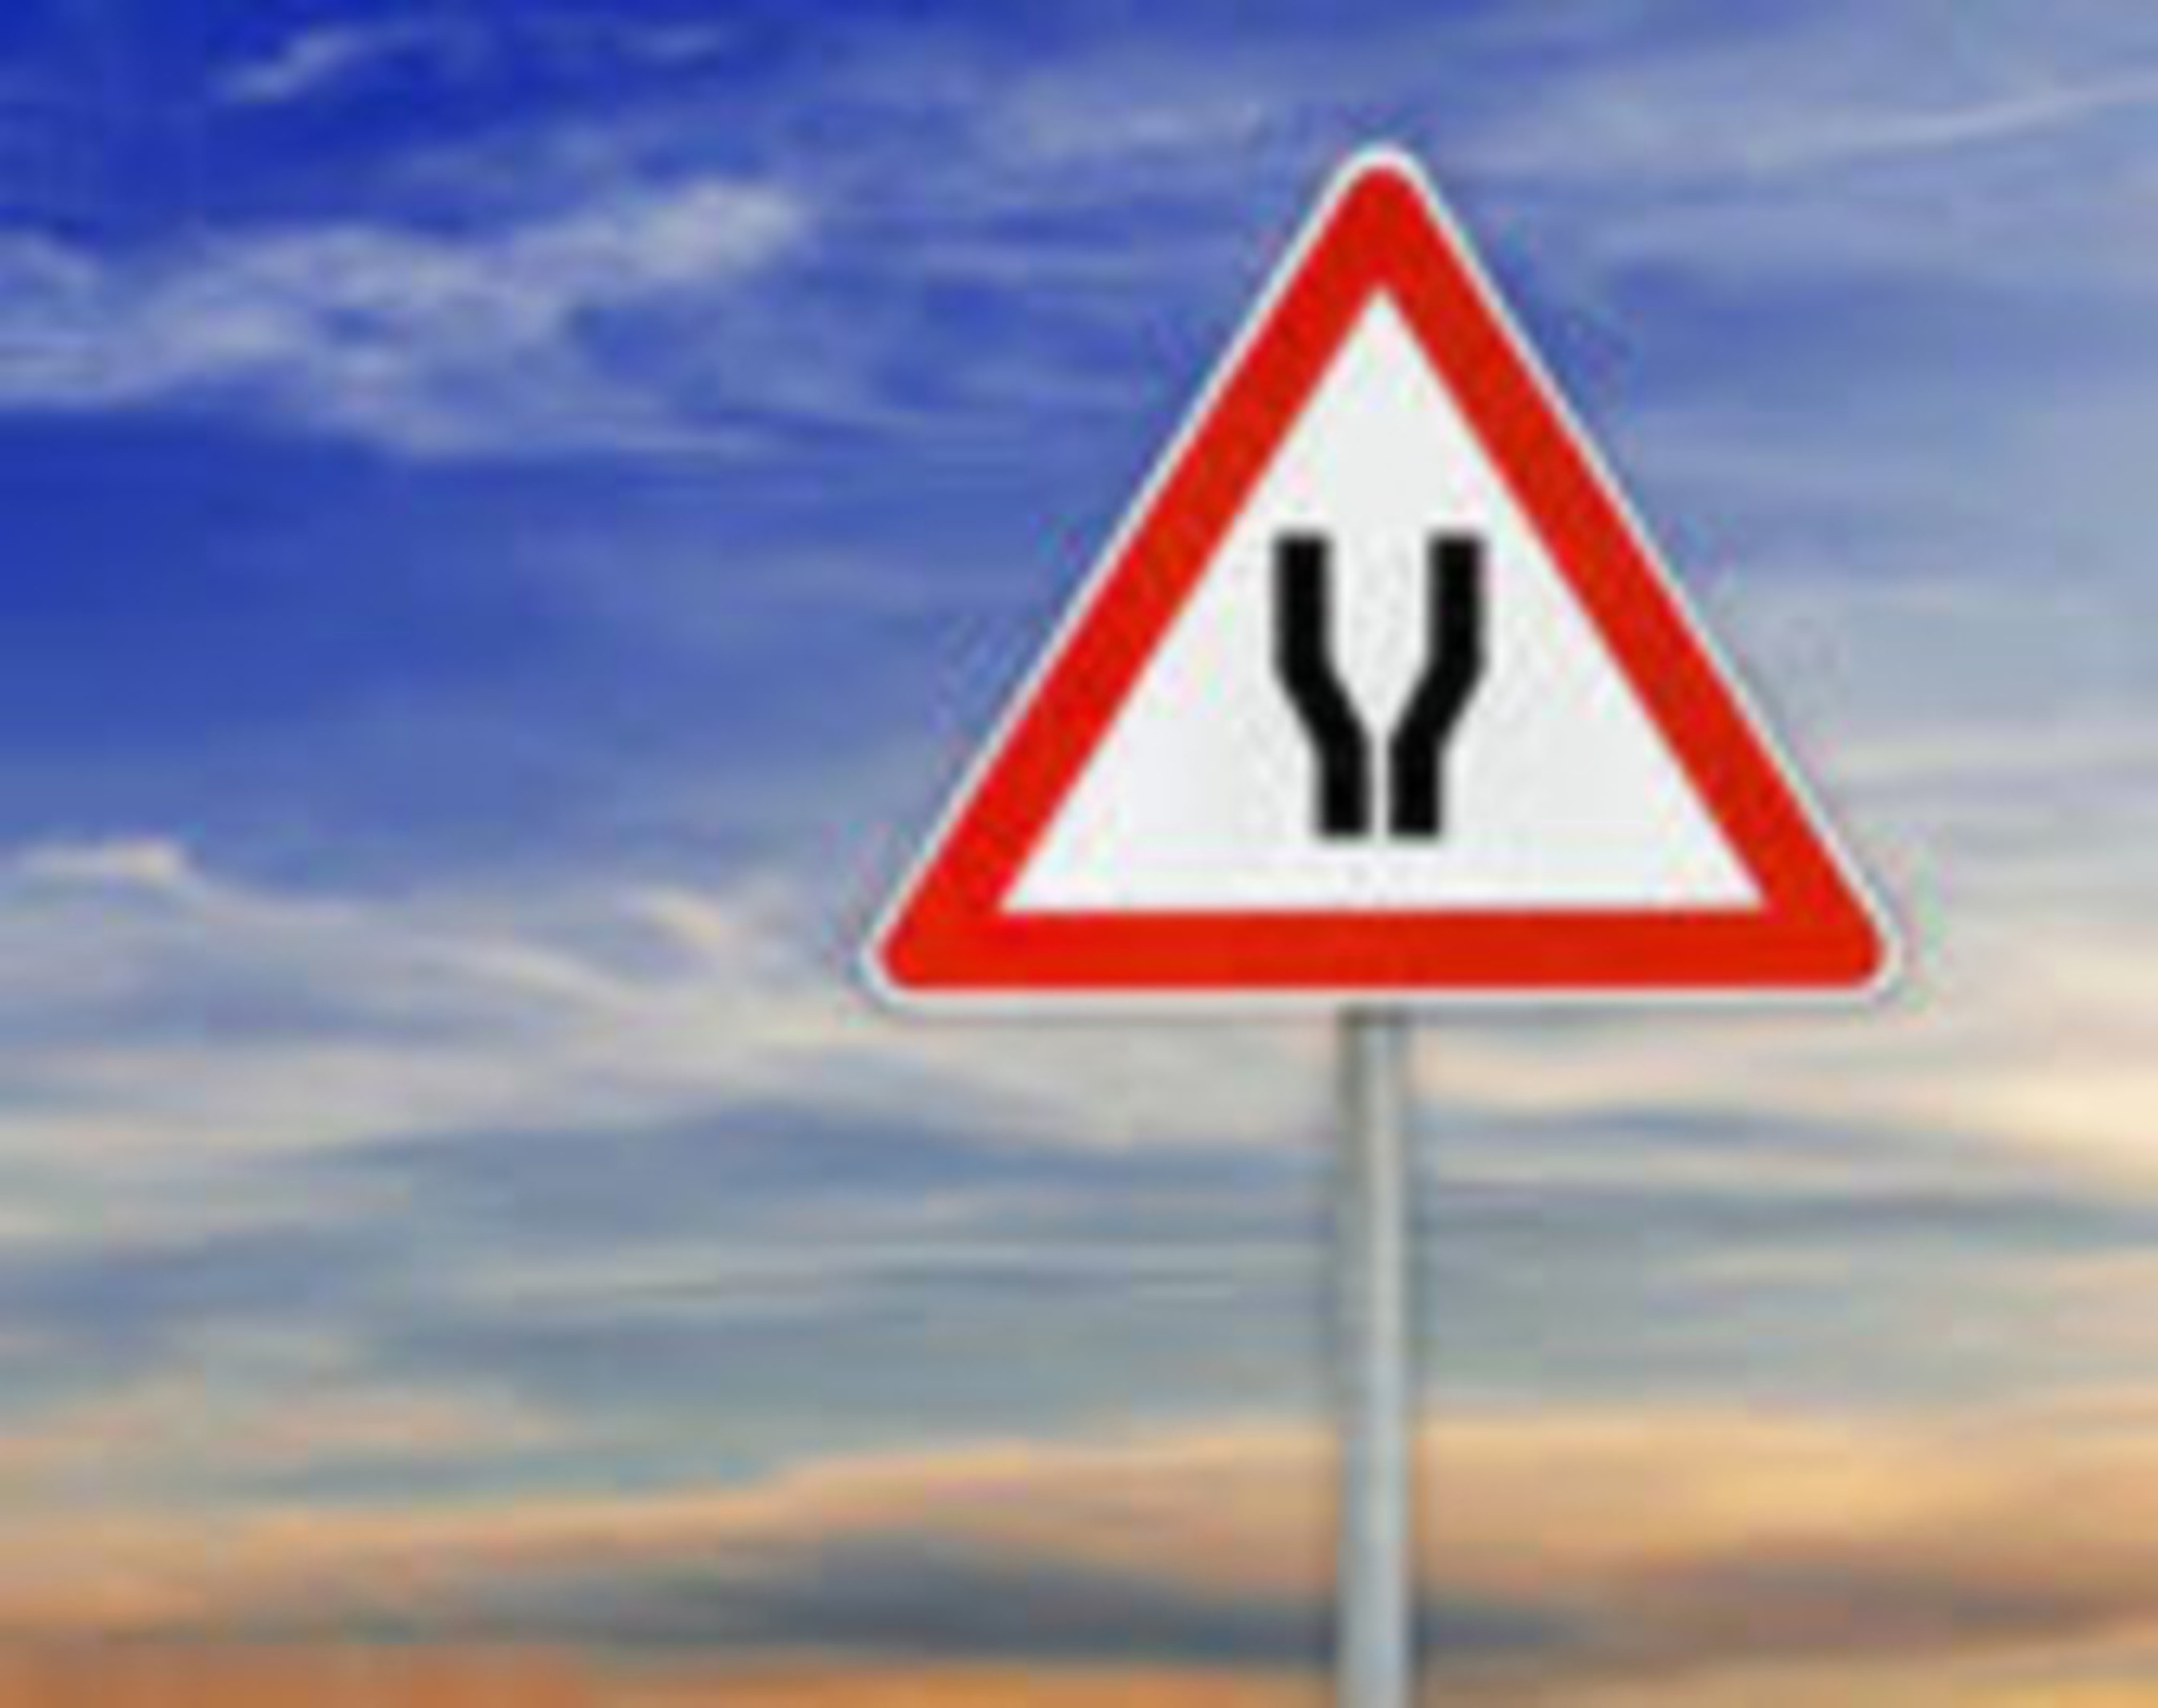Narrow_road: (843, 130, 1927, 1025)
